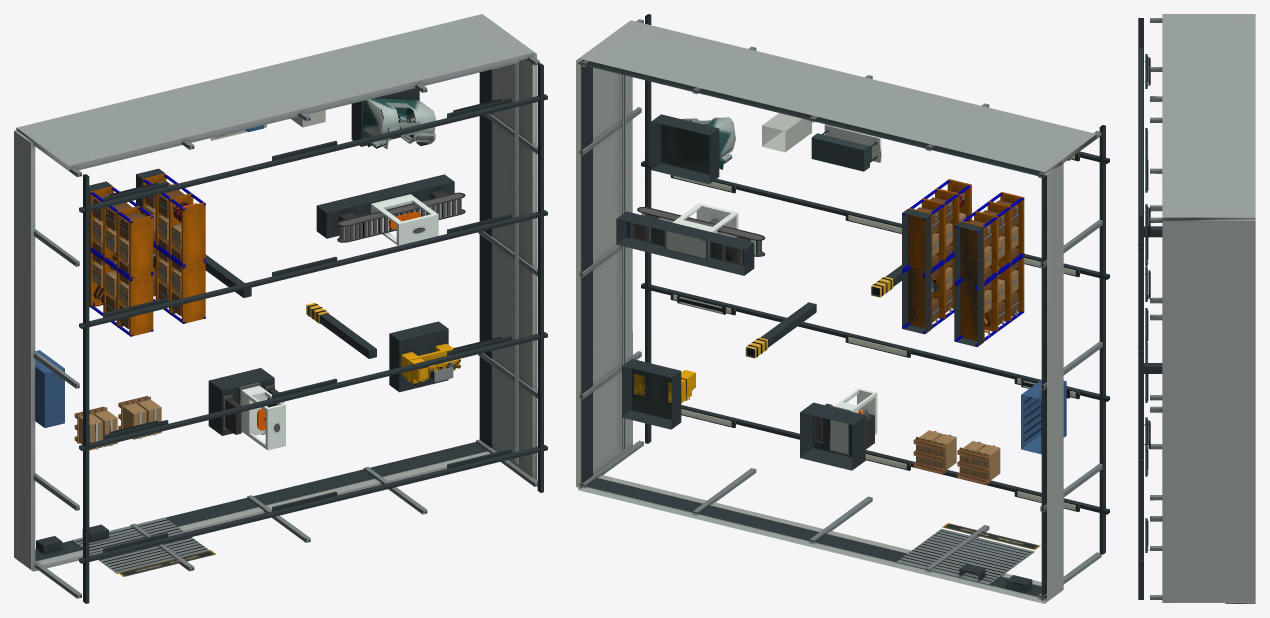
File: static_factory.obj
3 views of the same model, side by side, from view 1: azimuth 30°, elevation 25°; view 2: azimuth 150°, elevation 25°; view 3: azimuth 270°, elevation 25° (orthographic). The views are drawn at different scales.
Parts seen in each view (by area): view 1: static_factory; view 2: static_factory; view 3: static_factory.
Part boxes in pixels (x1=…): static_factory: x1=14, y1=14, x2=547, y2=603; static_factory: x1=576, y1=14, x2=1109, y2=603; static_factory: x1=1138, y1=14, x2=1255, y2=603.
Size of the model in its own units: 16.16 by 14.16 by 3.89.
Materials: 3 (3 with a texture image).
